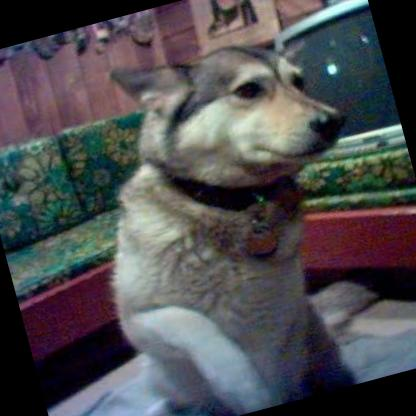Siberian_husky: (53, 11, 411, 416)
